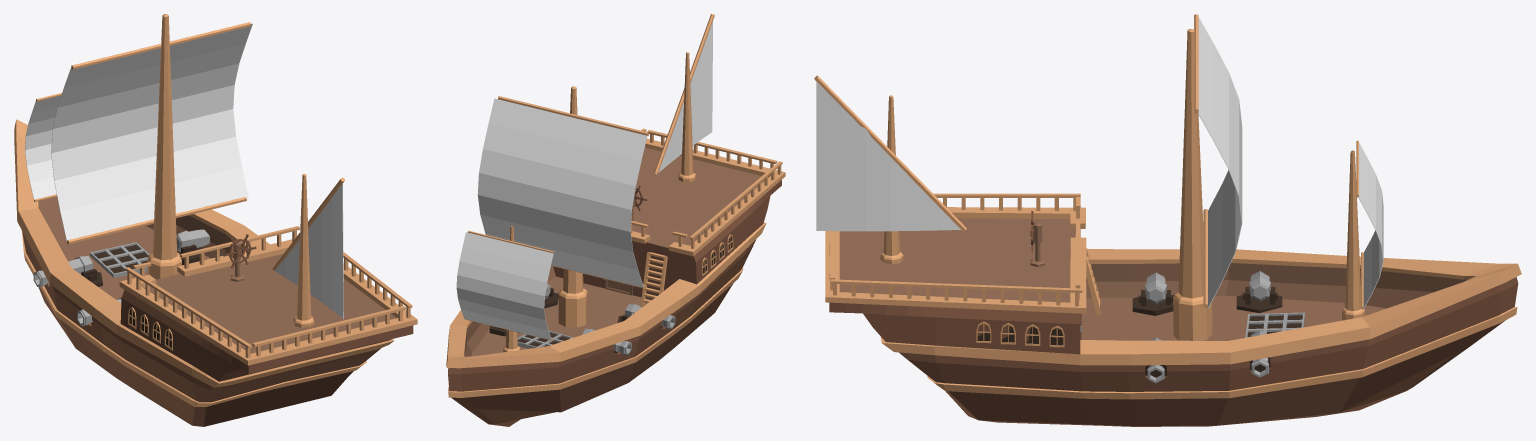
The model's file is First ship.fbx.
3 renders of one model, left to right at view 1: azimuth 30°, elevation 25°; view 2: azimuth 150°, elevation 25°; view 3: azimuth 270°, elevation 25°, orthographic. The views are drawn at different scales.
Visible parts, largest first — view 1: Nave, Vela quadrata centrale, Vela latina, Vela quadrata frontale, Grata, Finestre, Timone; view 2: Nave, Vela quadrata centrale, Vela quadrata frontale, Vela latina, Grata, Finestre; view 3: Nave, Vela latina, Vela quadrata centrale, Vela quadrata frontale, Grata, Finestre.
Boxes of the visible parts, x1,y1,x2,y2 form: Nave: (14, 14, 417, 426); Vela quadrata centrale: (51, 22, 252, 244); Vela latina: (272, 177, 344, 318); Vela quadrata frontale: (25, 93, 61, 201); Grata: (90, 242, 149, 277); Finestre: (128, 307, 172, 350); Timone: (223, 234, 256, 268); Nave: (446, 52, 785, 426); Vela quadrata centrale: (477, 96, 649, 288); Vela quadrata frontale: (456, 230, 554, 340); Vela latina: (654, 14, 714, 174); Grata: (517, 330, 573, 348); Finestre: (701, 234, 733, 276); Nave: (825, 29, 1521, 426); Vela latina: (814, 75, 966, 231); Vela quadrata centrale: (1194, 14, 1242, 308); Vela quadrata frontale: (1356, 140, 1383, 309); Grata: (1245, 312, 1305, 337); Finestre: (976, 321, 1064, 347).
Bounding box in the file's own units: 8.91 × 24.81 × 14.85.
